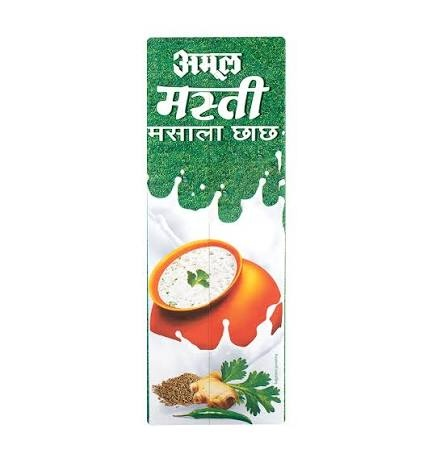Amul-masti: (144, 35, 290, 435)
